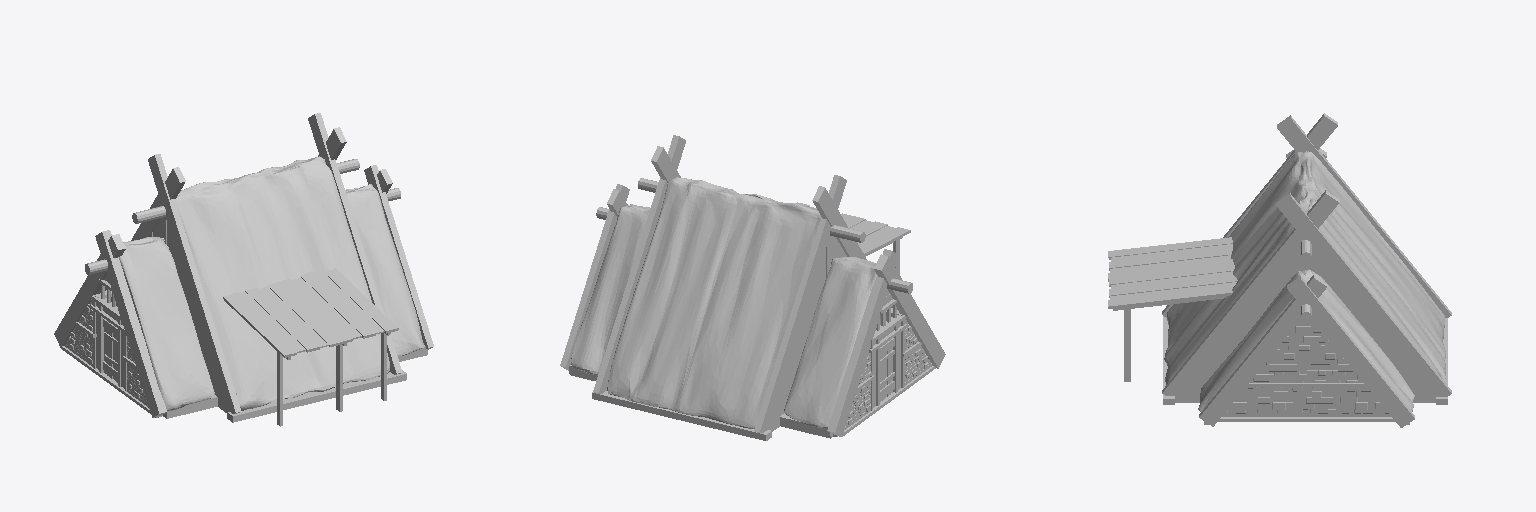
File: lowpoly_viking_house_008.obj
3 views of the same model, side by side, from view 1: azimuth 30°, elevation 25°; view 2: azimuth 150°, elevation 25°; view 3: azimuth 270°, elevation 25° (orthographic).
Parts seen in each view (by area): view 1: Plane.017, Cube.2884, Cube.2875, Cube.2868, Cube.019, Cube.2891, Cube.2911, Cube.2951, Cube.2928, Cube.2945, Cube.2950, Cube.2948 (+10 smaller); view 2: Plane.017, Cube.2874, Cube.2891, Cube.2869, Cube.2875, Cube.2905, Cube.2910, Cube.020, Cube.2884, Cube.2866, Wall.058, Cube.2867 (+3 smaller); view 3: Plane.017, Wall.087, Cube.2869, Cube.2868, Cube.2910, Cube.2911, Cube.2926, Cube.2927, Cube.2874, Cube.2943, Cube.2884, Cube.2945 (+6 smaller).
Boxes of the visible parts, box(x1,y1,x2,y2) form: Plane.017: box(105, 156, 423, 410); Cube.2884: box(148, 154, 241, 413); Cube.2875: box(95, 230, 166, 417); Cube.2868: box(308, 113, 401, 374); Cube.019: box(227, 370, 406, 422); Cube.2891: box(54, 234, 125, 347); Cube.2911: box(364, 165, 433, 349); Cube.2951: box(223, 293, 296, 357); Cube.2928: box(167, 223, 236, 412); Cube.2945: box(301, 272, 375, 338); Cube.2950: box(267, 282, 341, 346); Cube.2948: box(245, 288, 319, 352); Plane.017: box(571, 177, 892, 428); Cube.2874: box(754, 175, 846, 433); Cube.2891: box(827, 249, 898, 436); Cube.2869: box(593, 135, 685, 393); Cube.2875: box(874, 254, 945, 368); Cube.2905: box(769, 236, 831, 431); Cube.2910: box(560, 184, 629, 370); Cube.020: box(592, 391, 771, 440); Cube.2884: box(812, 186, 866, 259); Cube.2866: box(880, 338, 894, 401); Wall.058: box(905, 345, 932, 385); Cube.2867: box(638, 178, 865, 242); Plane.017: box(1164, 151, 1445, 411); Wall.087: box(1222, 319, 1390, 416); Cube.2869: box(1276, 193, 1451, 399); Cube.2868: box(1162, 190, 1339, 402); Cube.2910: box(1287, 276, 1414, 427); Cube.2911: box(1199, 275, 1327, 426); Cube.2926: box(1175, 251, 1305, 402); Cube.2927: box(1306, 250, 1435, 402); Cube.2874: box(1277, 115, 1451, 317); Cube.2943: box(1108, 286, 1233, 308); Cube.2884: box(1162, 113, 1337, 317); Cube.2945: box(1109, 275, 1237, 297).
Bounding box in the file's own units: 6.57 × 4.25 × 6.28.